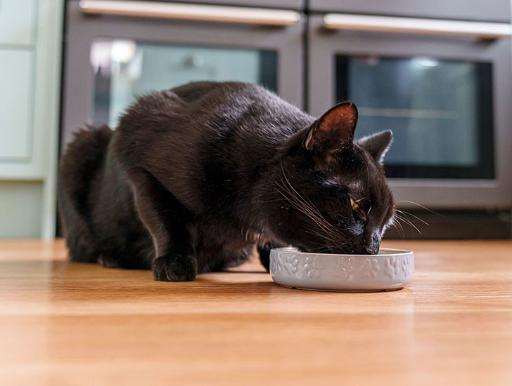cat_eating: (59, 82, 412, 291)
